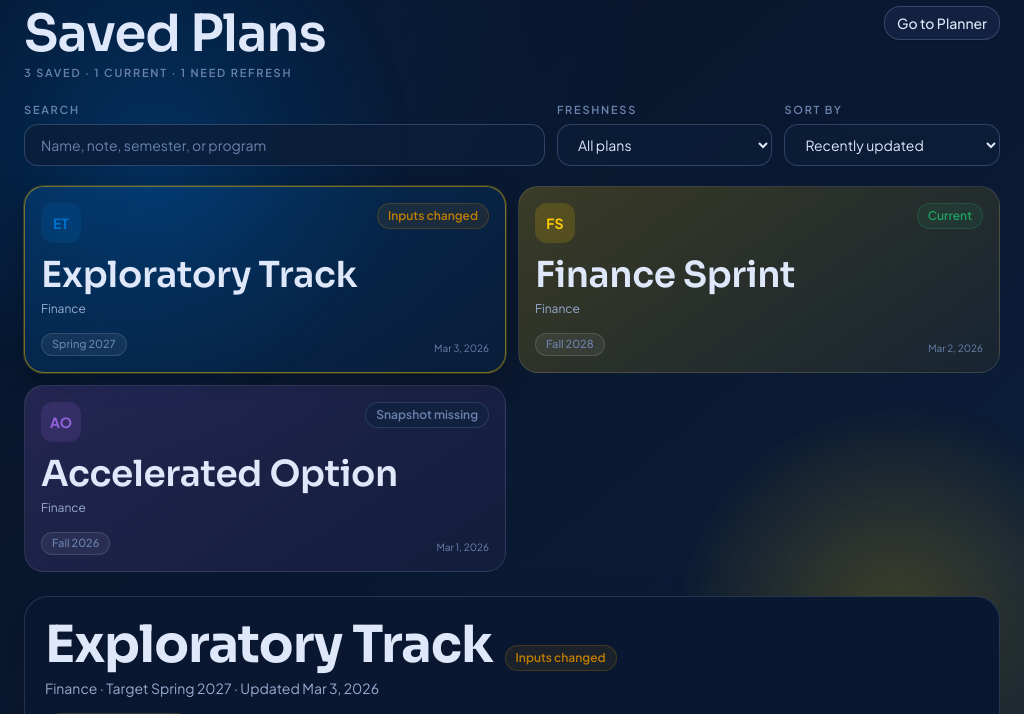
SavedPlansLibraryPage workspace controls › selects a saved-plan row and keeps the detail action bar aligned with snapshot availability
Expected: the 2nd heading "Exploratory Track" is shown, [45, 617, 493, 672]
What coordinates should you click on to do the following:
click the button with aria-label "accelerated option saved plan"
I would click on:
 (265, 478)
Its box is [24, 385, 506, 572].
(page scrolled)
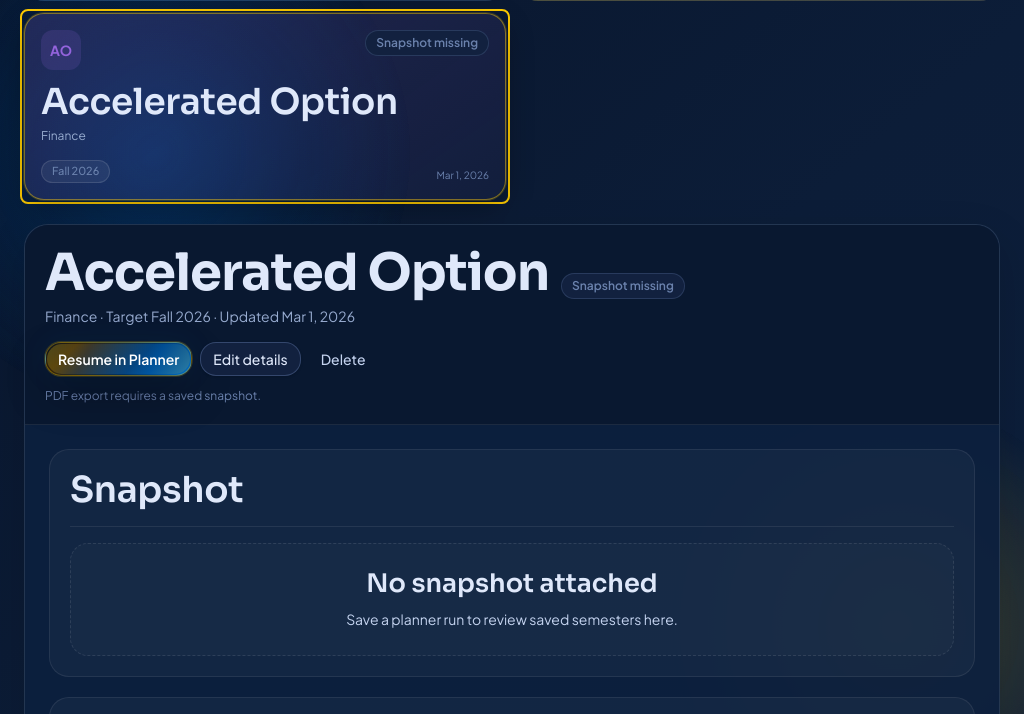
Expected: the button "Resume in Planner" is shown, [45, 342, 192, 376]
Result: the 2nd heading "Accelerated Option" is shown at [45, 245, 549, 300]
Result: the text "PDF export requires a saved snapshot." is shown at [45, 388, 261, 403]
